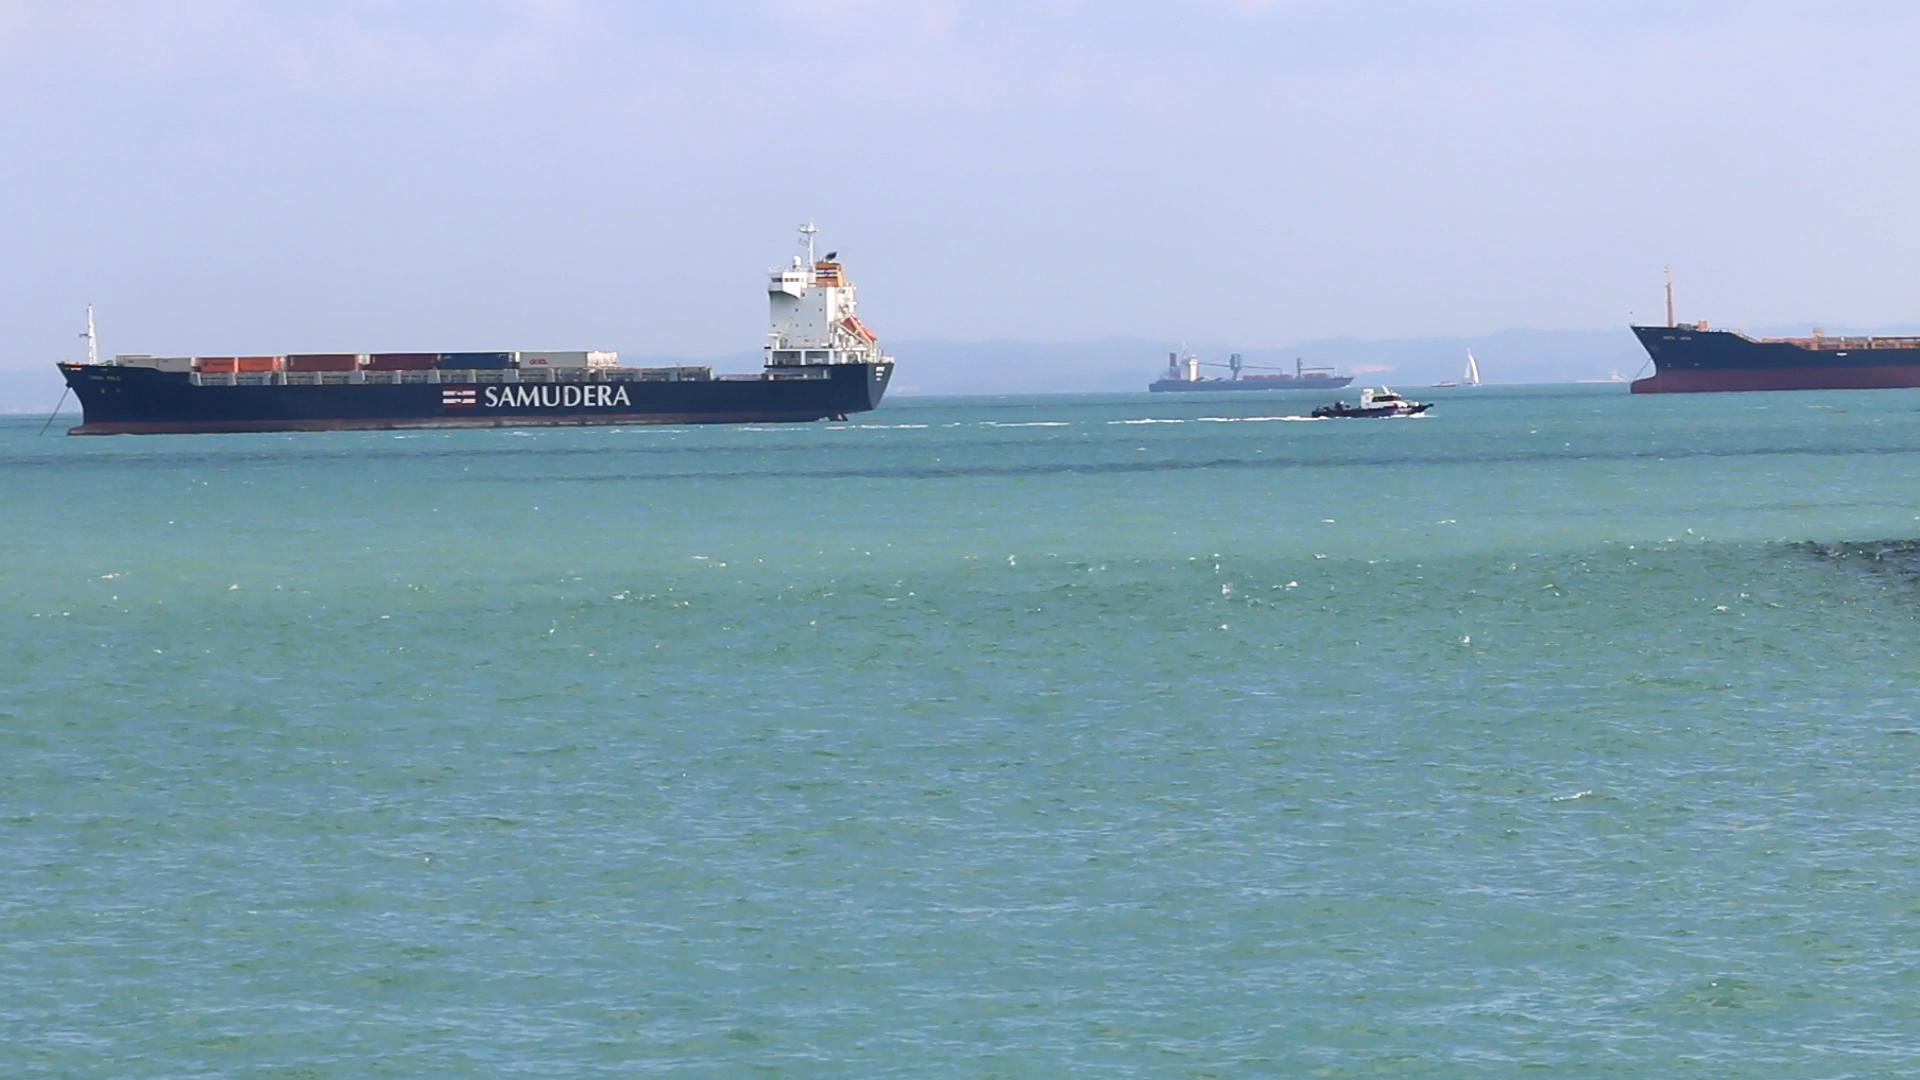Container Ship: (57, 219, 898, 438), (1631, 268, 1919, 397), (1145, 349, 1357, 394)
